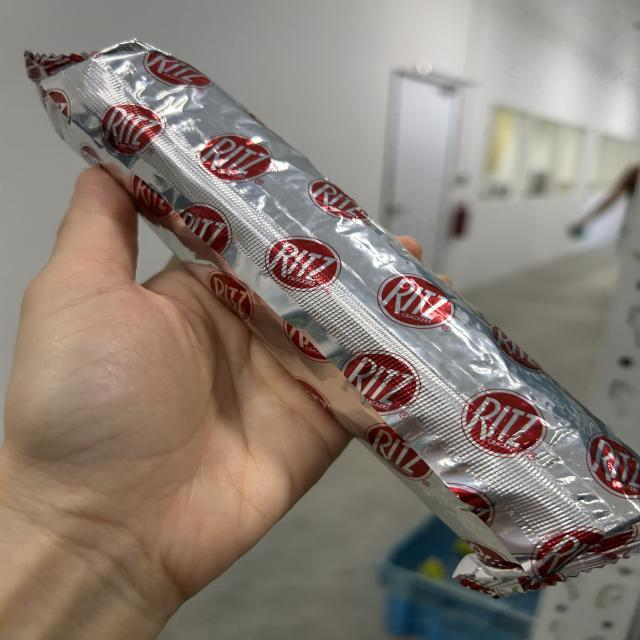object_name: (91, 69, 567, 564)
